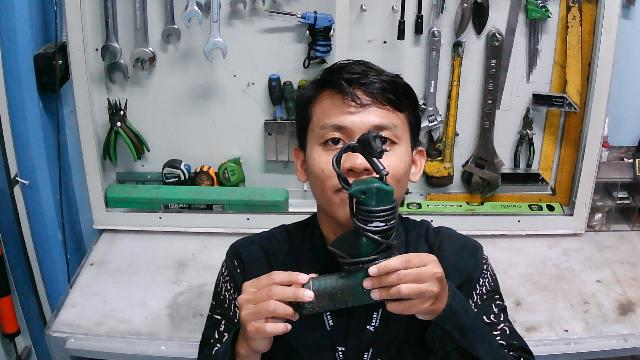gun_lem: (288, 128, 416, 318)
